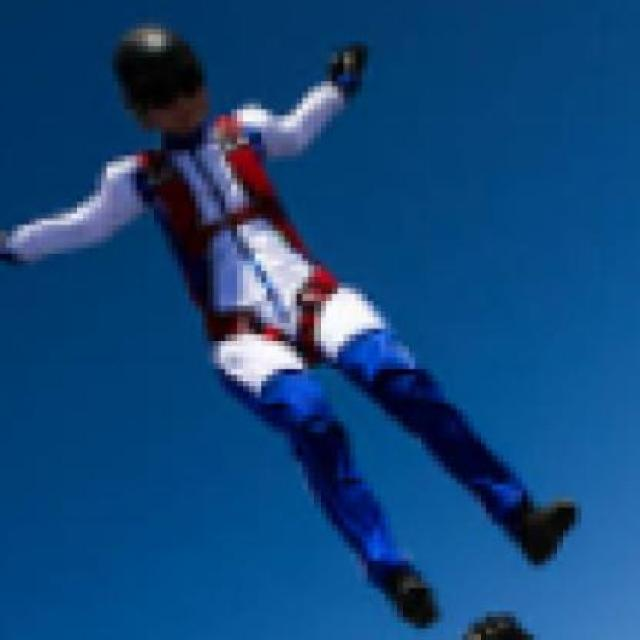fall: (0, 32, 615, 596)
